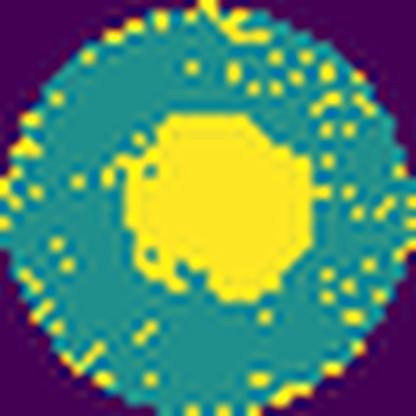Center: (129, 115, 316, 309)
